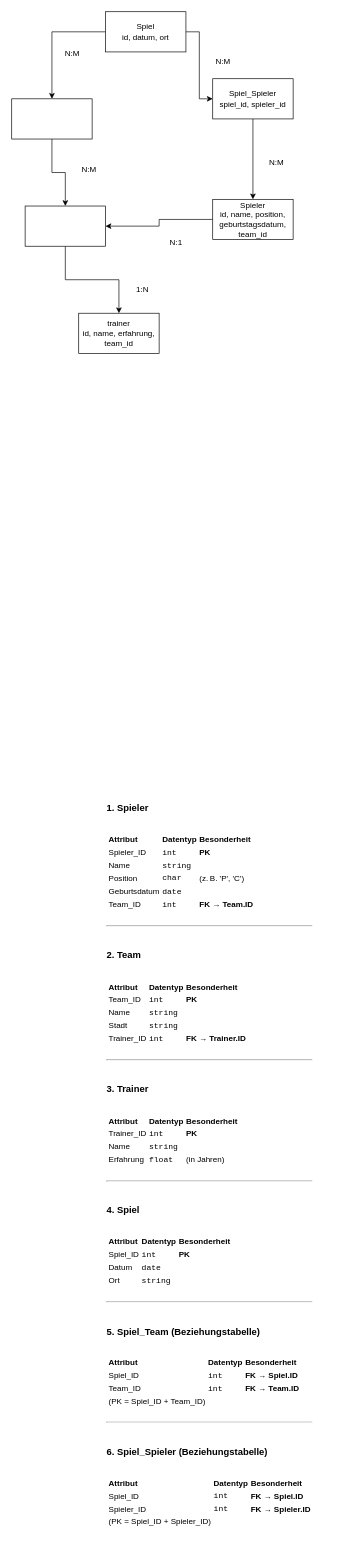
This 345x1544 diagram has some shape labels left out. Each missing label, with the centre of its shape:
Spiel_Team spiel_id, Team_id: (x=51, y=118)
Team id, name, stadt, trainer_id: (x=65, y=225)
